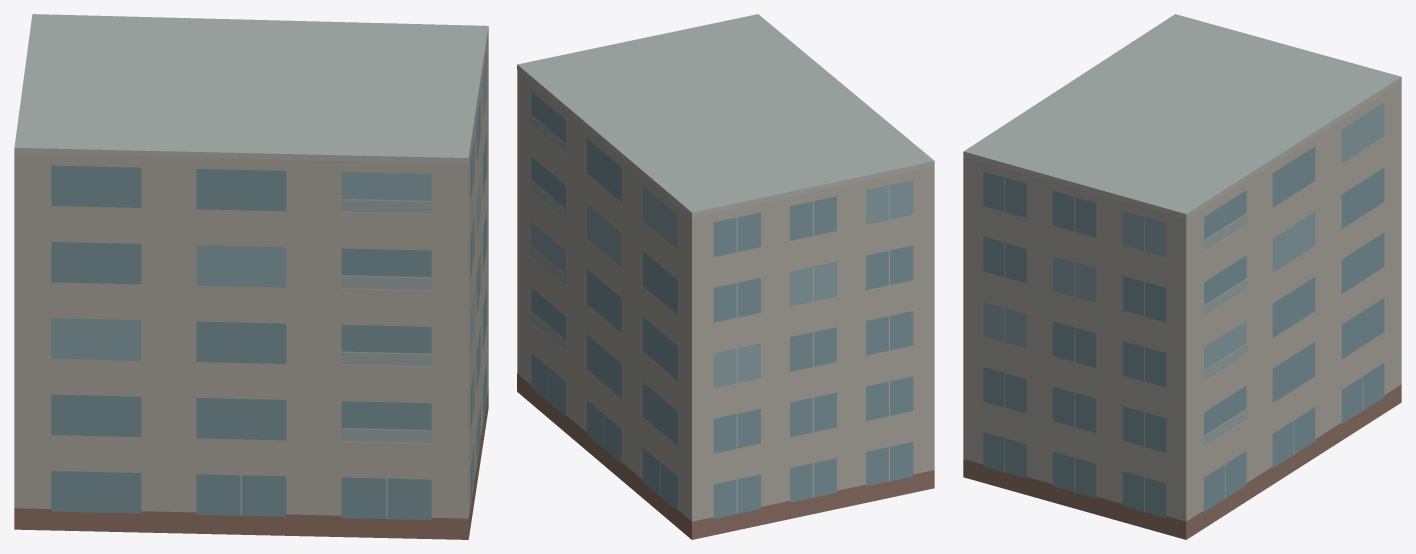
The model's file is survey-upis-32768415.glb.
3 renders of one model, left to right at view 1: azimuth 30°, elevation 25°; view 2: azimuth 150°, elevation 25°; view 3: azimuth 270°, elevation 25°, orthographic. The views are drawn at different scales.
Parts seen in each view (by area): view 1: survey-upis-32768415.tmp; view 2: survey-upis-32768415.tmp; view 3: survey-upis-32768415.tmp.
Part boxes in pixels (box(x1,y1,x2,y2)): survey-upis-32768415.tmp: box(14, 14, 488, 539); survey-upis-32768415.tmp: box(517, 14, 934, 539); survey-upis-32768415.tmp: box(963, 14, 1401, 539).
Size of the model in its own units: 20.95 by 15.9 by 19.39.
